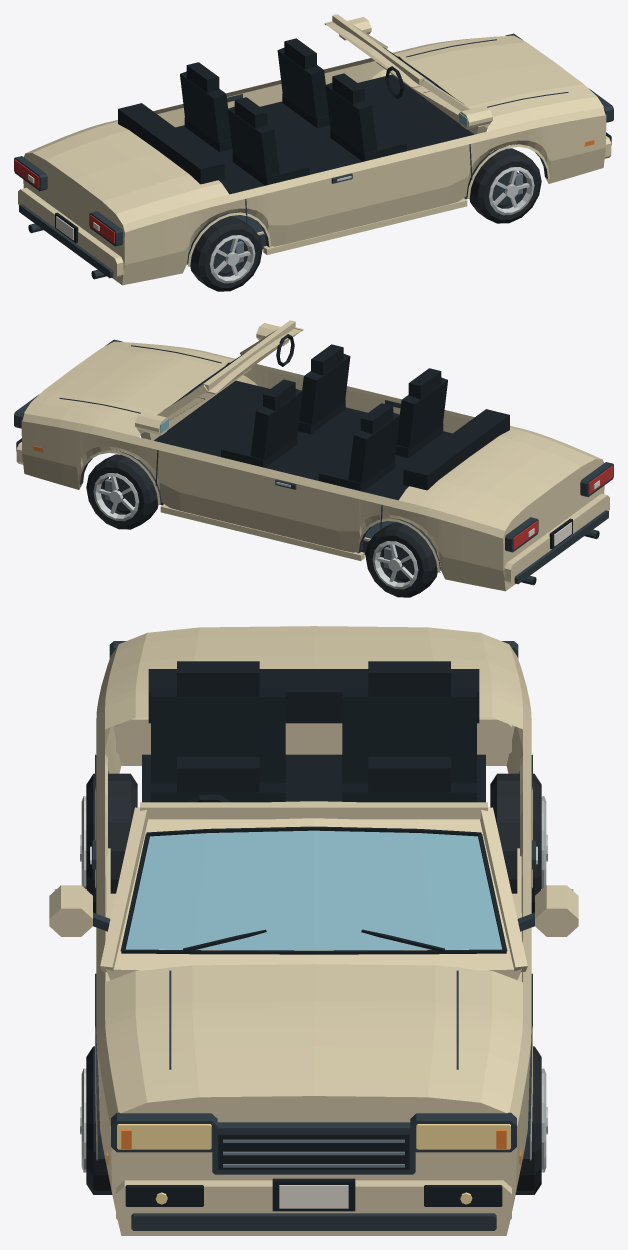
File: b03_four_seat_convertible.glb
The picture shows the model from 3 angles, top to bottom: view 1: azimuth 30°, elevation 25°; view 2: azimuth 150°, elevation 25°; view 3: azimuth 270°, elevation 25°; orthographic projection. The views are drawn at different scales.
Parts seen in each view (by area): view 1: b03_four_seat_convertible; view 2: b03_four_seat_convertible; view 3: b03_four_seat_convertible.
Boxes of the visible parts, x1,y1,x2,y2 form: b03_four_seat_convertible: [14, 14, 613, 291]; b03_four_seat_convertible: [14, 320, 613, 597]; b03_four_seat_convertible: [49, 626, 578, 1235].
Size of the model in its own units: 5.06 by 1.48 by 2.3.
